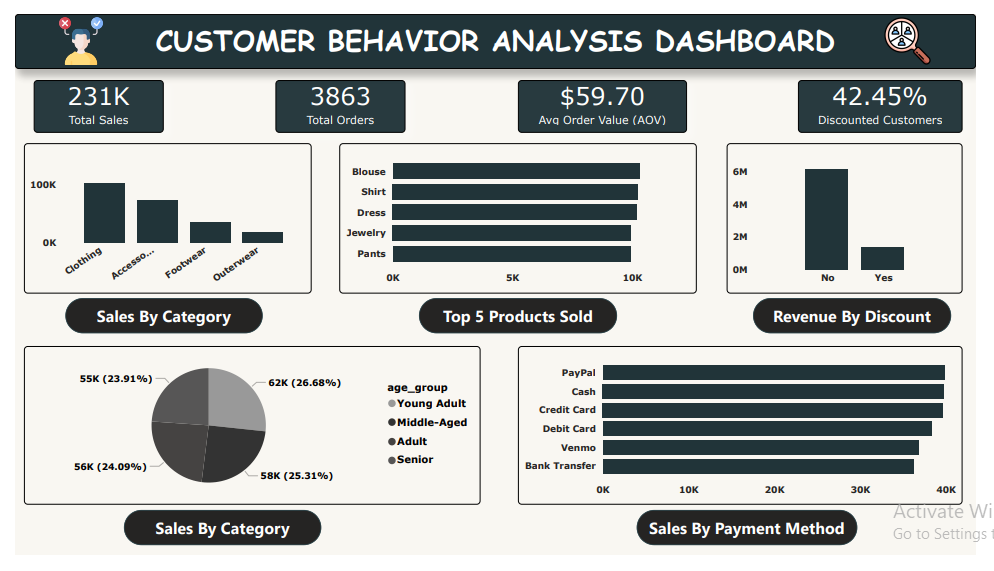

What the dashboard file says about the page in this screenshot:
{"tool":"powerbi","page":{"name":"Page 1","canvas":[1280,720],"ordinal":0},"visuals":[{"type":"card","fields":{"Values":["Measuress.Total Sales"]},"box":[25,88.3,173.3,70],"z":0},{"type":"card","fields":{"Values":["Measuress.Total Orders"]},"box":[346.7,88.3,173.3,70],"z":1000},{"type":"card","fields":{"Values":["Measuress.Avg Order Value (AOV)"]},"box":[670,88.3,225,70],"z":2000},{"type":"card","fields":{"Values":["Measuress.Discounted Cust"]},"box":[1043.3,88.3,218.3,70],"z":3000},{"type":"columnChart","fields":{"Category":["10customerbehavior fact_customer_behavior.category"],"Y":["Sum(10customerbehavior fact_customer_behavior.purchase_amount)"]},"box":[11.7,171.7,383.3,200],"z":4000},{"type":"clusteredBarChart","fields":{"Category":["10customerbehavior fact_customer_behavior.item_purchased"],"Y":["Sum(10customerbehavior fact_customer_behavior.purchase_amount)"]},"box":[431.7,171.7,476.7,200],"z":5000},{"type":"columnChart","fields":{"Category":["10customerbehavior fact_customer_behavior.discount_applied"],"Y":["Sum(10customerbehavior fact_customer_behavior.customer_id)"]},"box":[948.3,171.7,313.3,200],"z":6000},{"type":"textbox","box":[0,0,1280,73.3],"z":7000},{"type":"image","box":[25,5,125,61.7],"z":8000},{"type":"image","box":[1115,5,146.7,61.7],"z":9000},{"type":"shape","box":[66.7,378.3,263.3,46.7],"z":10000},{"type":"shape","box":[538.3,378.3,263.3,46.7],"z":11000},{"type":"shape","box":[983.3,378.3,263.3,46.7],"z":12000},{"type":"pieChart","fields":{"Y":["Sum(10customerbehavior fact_customer_behavior.purchase_amount)"],"Category":["10customerbehavior fact_customer_behavior.age_group"]},"box":[11.7,441.7,608.3,211.7],"z":13000},{"type":"shape","box":[145,660,263.3,46.7],"z":14000},{"type":"clusteredBarChart","fields":{"Category":["10customerbehavior fact_customer_behavior.payment_method"],"Y":["Sum(10customerbehavior fact_customer_behavior.purchase_amount)"]},"box":[670,441.7,591.7,211.7],"z":15000},{"type":"shape","box":[828.3,660,293.3,46.7],"z":16000}]}

Visuals, with their boxes in screenshot pixels (x1, y1, x2, y2), scaled from the page's 1280x720 canvas onto the 994x571 screenshot:
card - Measuress.Total Sales: left=19, top=70, right=154, bottom=126
card - Measuress.Total Orders: left=269, top=70, right=404, bottom=126
card - Measuress.Avg Order Value (AOV): left=520, top=70, right=695, bottom=126
card - Measuress.Discounted Cust: left=810, top=70, right=980, bottom=126
columnChart - 10customerbehavior fact_customer_behavior.category x Sum(10customerbehavior fact_customer_behavior.purchase_amount): left=9, top=136, right=307, bottom=295
clusteredBarChart - 10customerbehavior fact_customer_behavior.item_purchased x Sum(10customerbehavior fact_customer_behavior.purchase_amount): left=335, top=136, right=705, bottom=295
columnChart - 10customerbehavior fact_customer_behavior.discount_applied x Sum(10customerbehavior fact_customer_behavior.customer_id): left=736, top=136, right=980, bottom=295
textbox: left=0, top=0, right=993, bottom=58
image: left=19, top=4, right=116, bottom=53
image: left=866, top=4, right=980, bottom=53
shape: left=52, top=300, right=256, bottom=337
shape: left=418, top=300, right=622, bottom=337
shape: left=764, top=300, right=968, bottom=337
pieChart - Sum(10customerbehavior fact_customer_behavior.purchase_amount) x 10customerbehavior fact_customer_behavior.age_group: left=9, top=350, right=481, bottom=518
shape: left=113, top=523, right=317, bottom=560
clusteredBarChart - 10customerbehavior fact_customer_behavior.payment_method x Sum(10customerbehavior fact_customer_behavior.purchase_amount): left=520, top=350, right=980, bottom=518
shape: left=643, top=523, right=871, bottom=560
